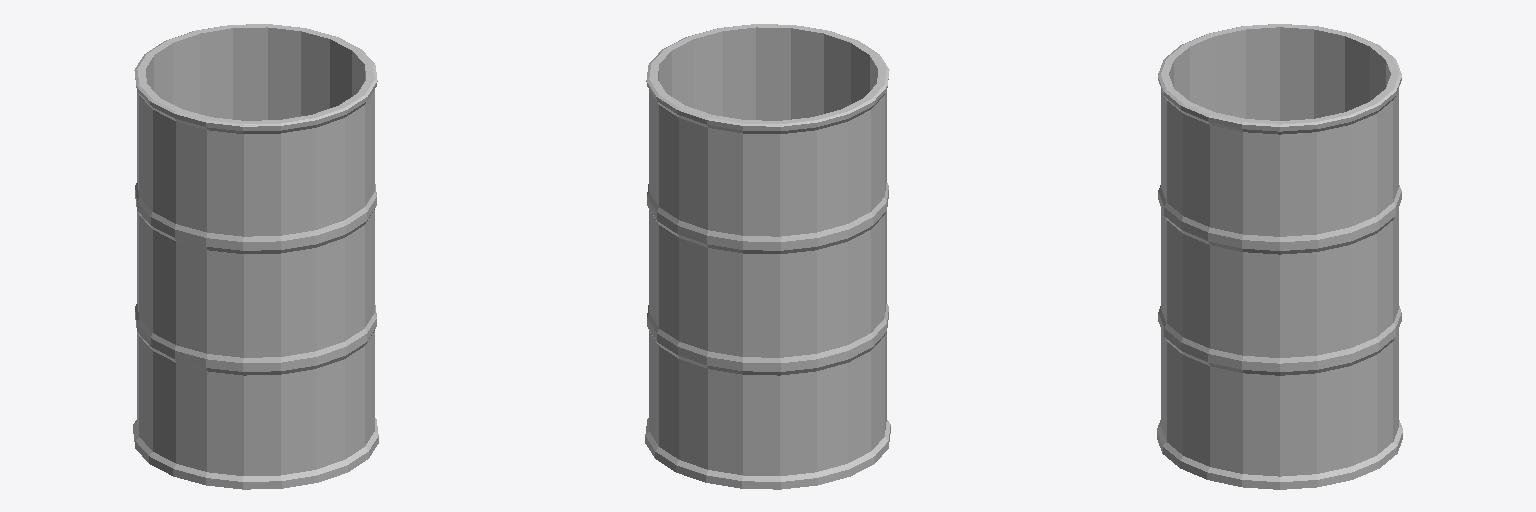
File: Barrel.obj
The picture shows the model from 3 angles: view 1: azimuth 30°, elevation 25°; view 2: azimuth 150°, elevation 25°; view 3: azimuth 270°, elevation 25°; orthographic projection.
Parts seen in each view (by area): view 1: Barrel_Cylinder.012; view 2: Barrel_Cylinder.012; view 3: Barrel_Cylinder.012.
Part boxes in pixels (bbox=[...]): Barrel_Cylinder.012: bbox=[133, 24, 378, 489]; Barrel_Cylinder.012: bbox=[645, 24, 890, 489]; Barrel_Cylinder.012: bbox=[1157, 24, 1402, 489].
Bounding box in the file's own units: 0.7041 × 1.14 × 0.7041.